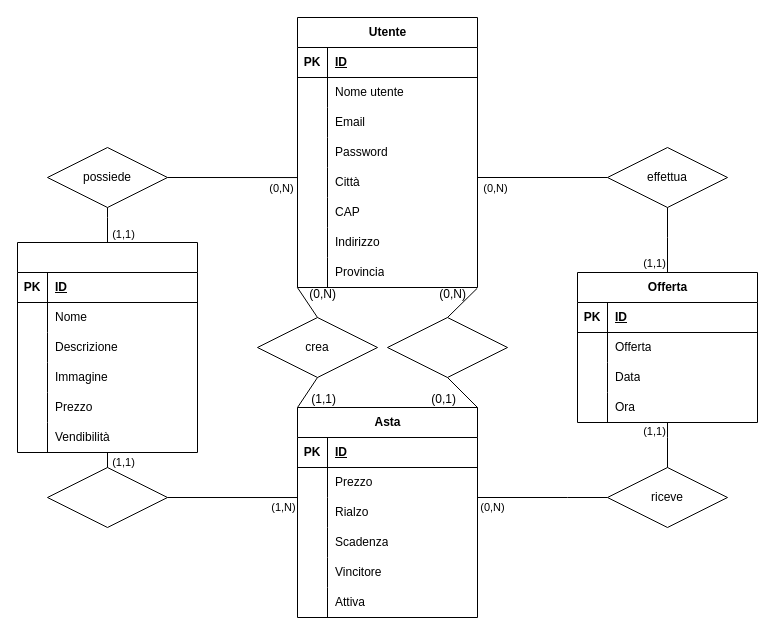
Image size: 775x635. Some labels were removed from this diagram. The box of each missing label's shape, as (x1, y1, x2, y2) in pixels:
Articolo: (16, 242, 198, 452)
comprende: (46, 466, 168, 528)
vince: (386, 316, 508, 378)
